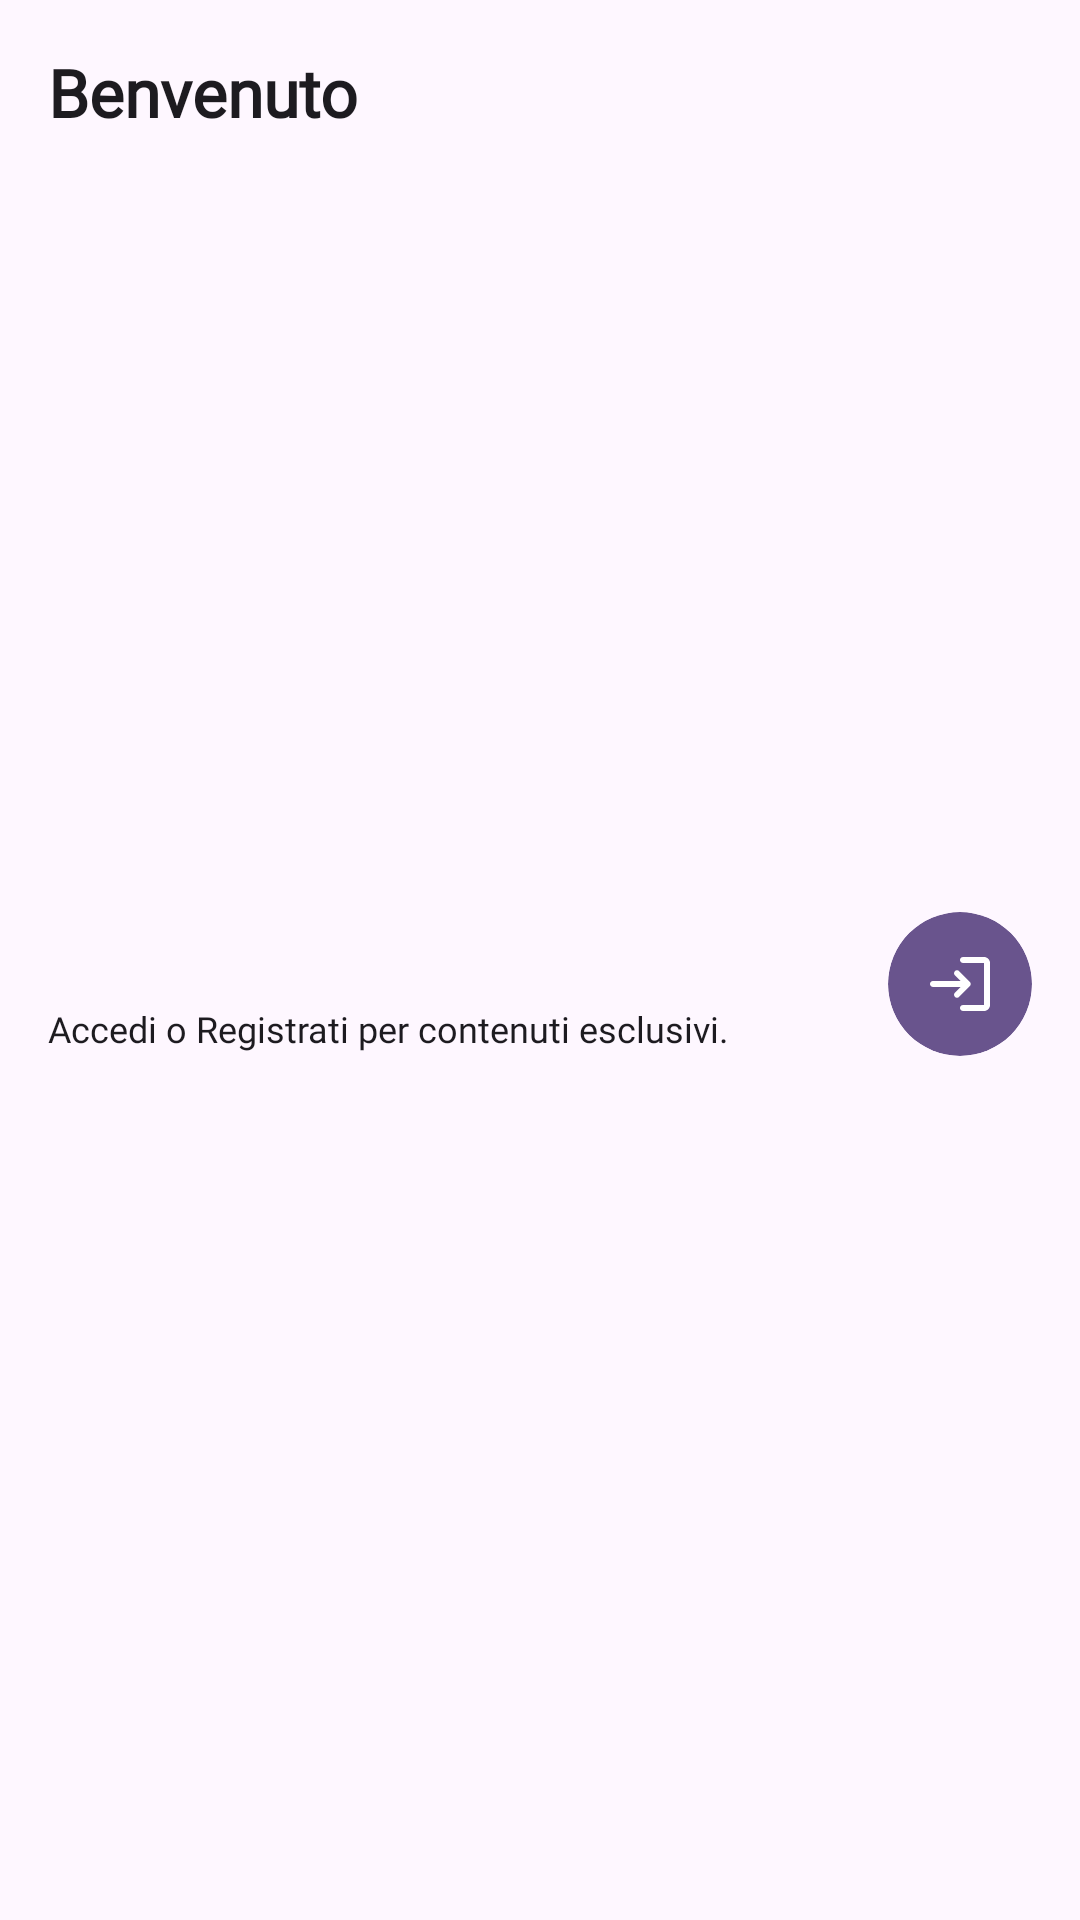

Where to tap for icons on this 1080w x 1920h app screen, as point (x, y):
login: point (960, 984)
